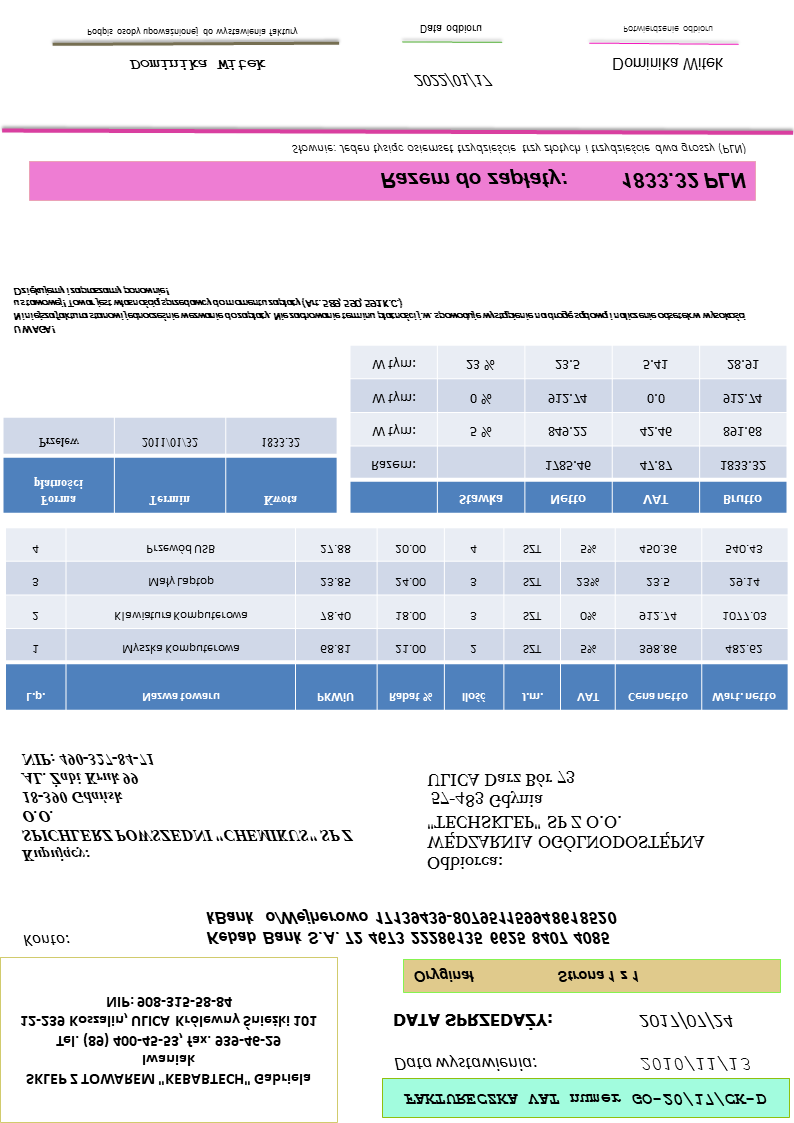Table: (2, 527, 790, 715), (347, 344, 788, 515), (2, 416, 336, 515)
TextBox: (9, 282, 746, 339), (19, 747, 357, 865), (424, 763, 709, 877), (18, 990, 322, 1093), (202, 904, 620, 951), (375, 167, 750, 194), (289, 141, 751, 159), (399, 1091, 774, 1110), (409, 964, 642, 987), (390, 1010, 555, 1033), (392, 1053, 538, 1077), (83, 24, 300, 40), (125, 55, 270, 74), (609, 54, 728, 76), (639, 1055, 752, 1076), (636, 1009, 733, 1033), (412, 69, 499, 94), (621, 19, 715, 38), (18, 928, 75, 953), (414, 20, 484, 37)
